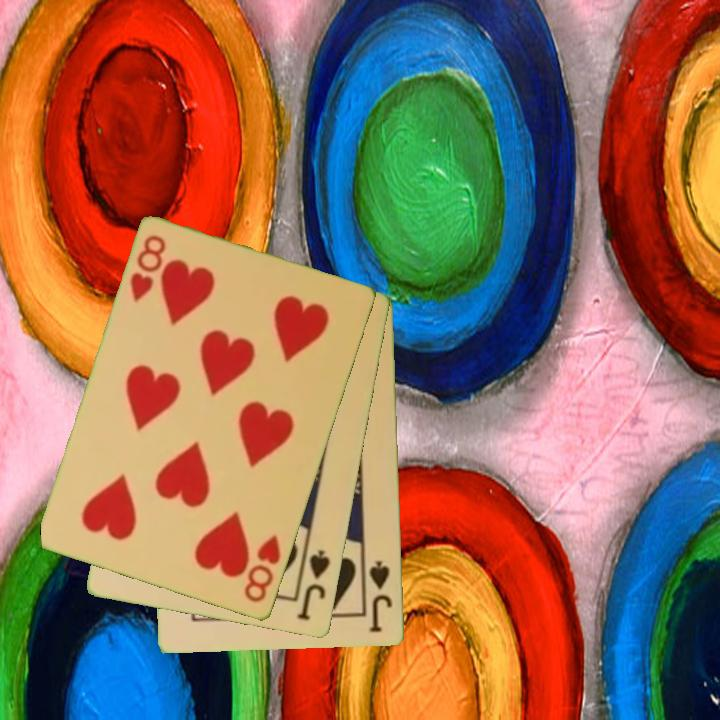8h: (241, 532, 284, 606), (126, 232, 169, 306)
Js: (294, 546, 334, 624), (366, 558, 395, 636)
